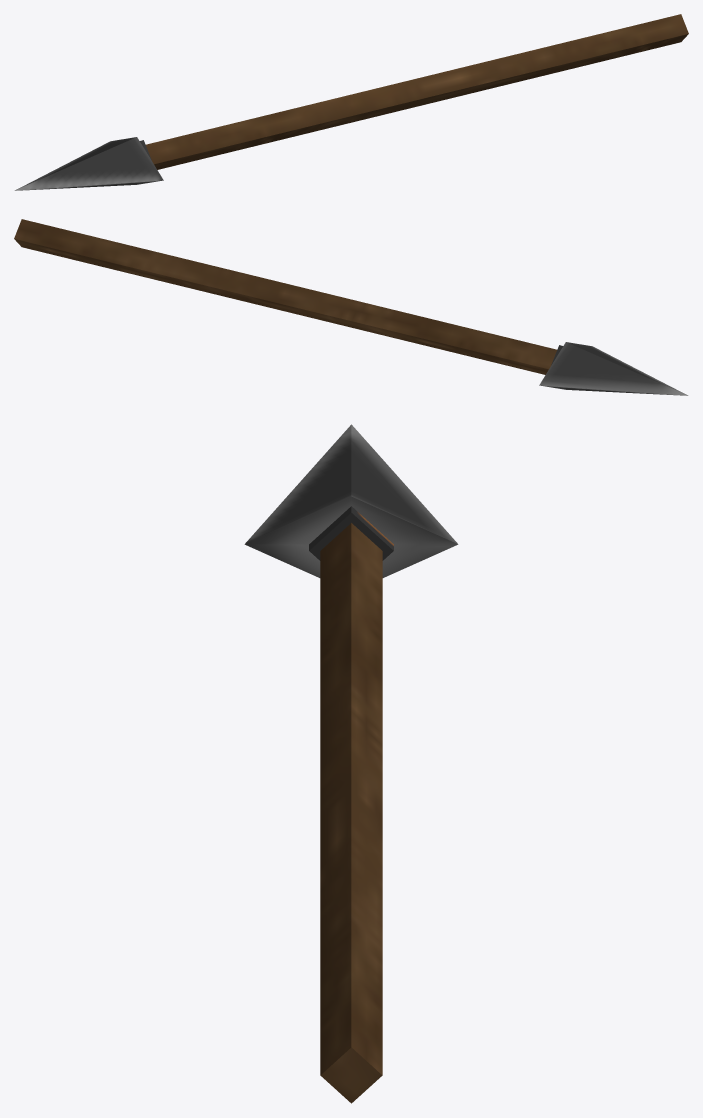
File: SM_arrow_TRAP.fbx
3 views of the same model, one above another, from view 1: azimuth 30°, elevation 25°; view 2: azimuth 150°, elevation 25°; view 3: azimuth 270°, elevation 25° (orthographic). The views are drawn at different scales.
Visible parts, largest first — view 1: SM_arrow_TRAP; view 2: SM_arrow_TRAP; view 3: SM_arrow_TRAP.
Part boxes in pixels (x1,y1,x2,y2): SM_arrow_TRAP: (14, 14, 688, 190); SM_arrow_TRAP: (14, 219, 688, 395); SM_arrow_TRAP: (244, 424, 458, 1103).
Size of the model in its own units: 1.27 by 0.0868 by 0.1759.
